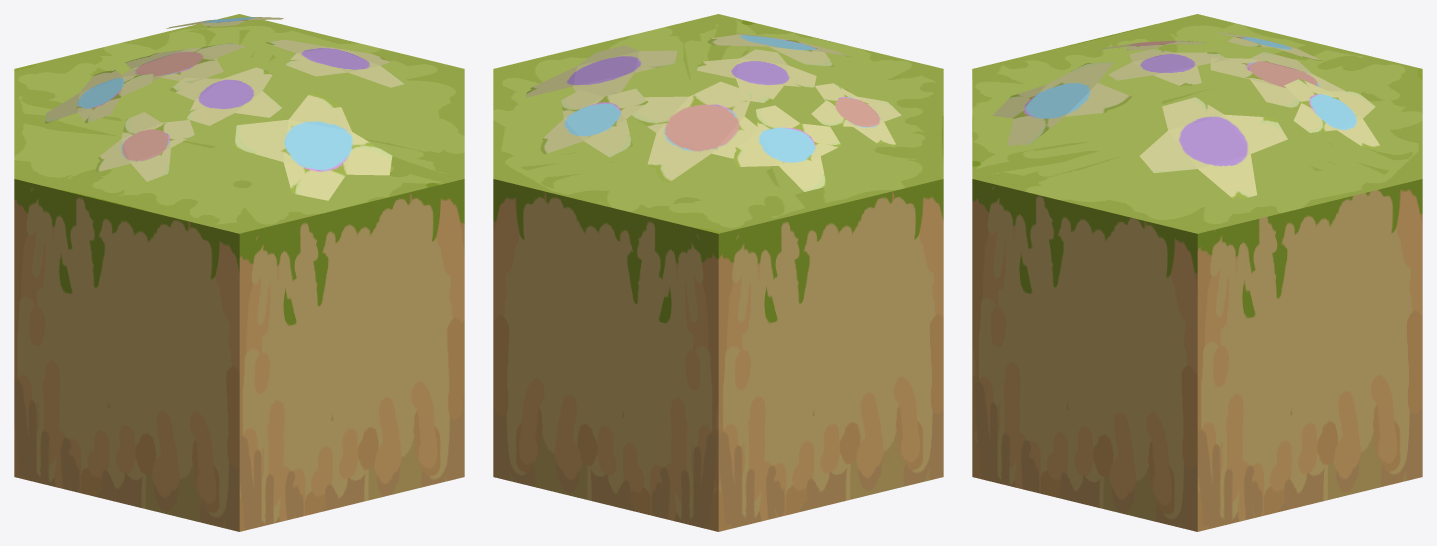
Rendered from tile_plains_1.FBX.
The picture shows the model from 3 angles, left to right: view 1: azimuth 30°, elevation 25°; view 2: azimuth 150°, elevation 25°; view 3: azimuth 270°, elevation 25°; orthographic projection.
Visible parts, largest first — view 1: Cylinder001; view 2: Cylinder001; view 3: Cylinder001.
Part boxes in pixels (box(x1,y1,x2,y2)): Cylinder001: box(14, 14, 464, 531); Cylinder001: box(493, 14, 943, 531); Cylinder001: box(972, 14, 1422, 531).
Size of the model in its own units: 25.3 by 21.91 by 19.08.
1 material, 1 textured.
